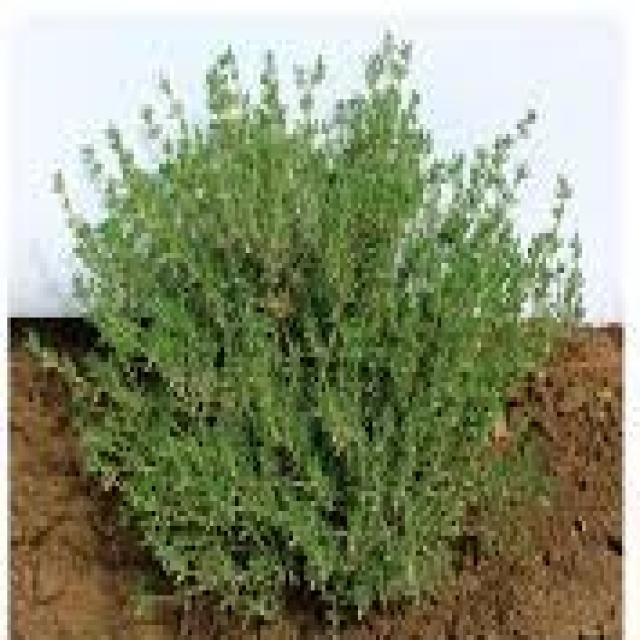Thyme: (18, 20, 600, 620)
